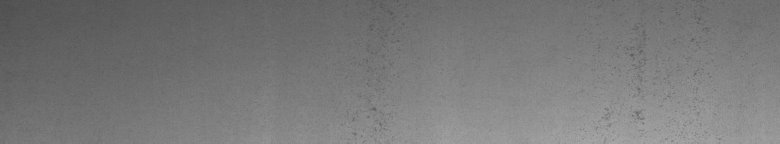ib: (606, 16, 702, 127)
